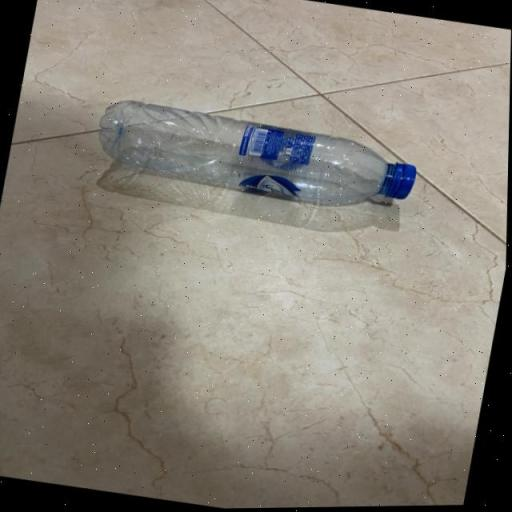plastic: (78, 85, 430, 234)
